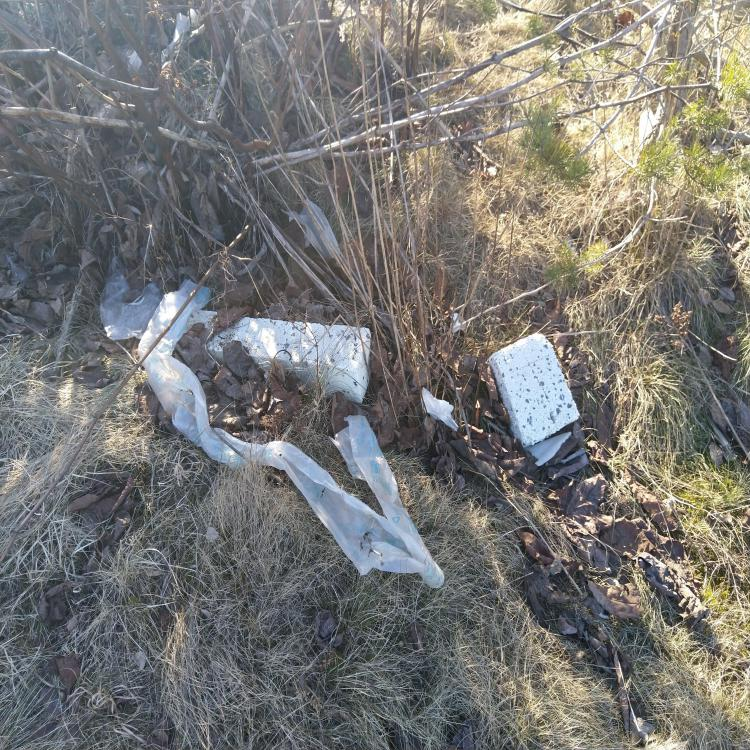Other plastic wrapper: (523, 431, 571, 466)
Plastic film: (138, 279, 444, 588), (99, 257, 162, 340), (281, 199, 341, 264), (421, 387, 459, 432), (168, 12, 191, 52), (129, 52, 142, 72)
Styrofoam piece: (184, 310, 372, 404), (487, 334, 579, 447)
